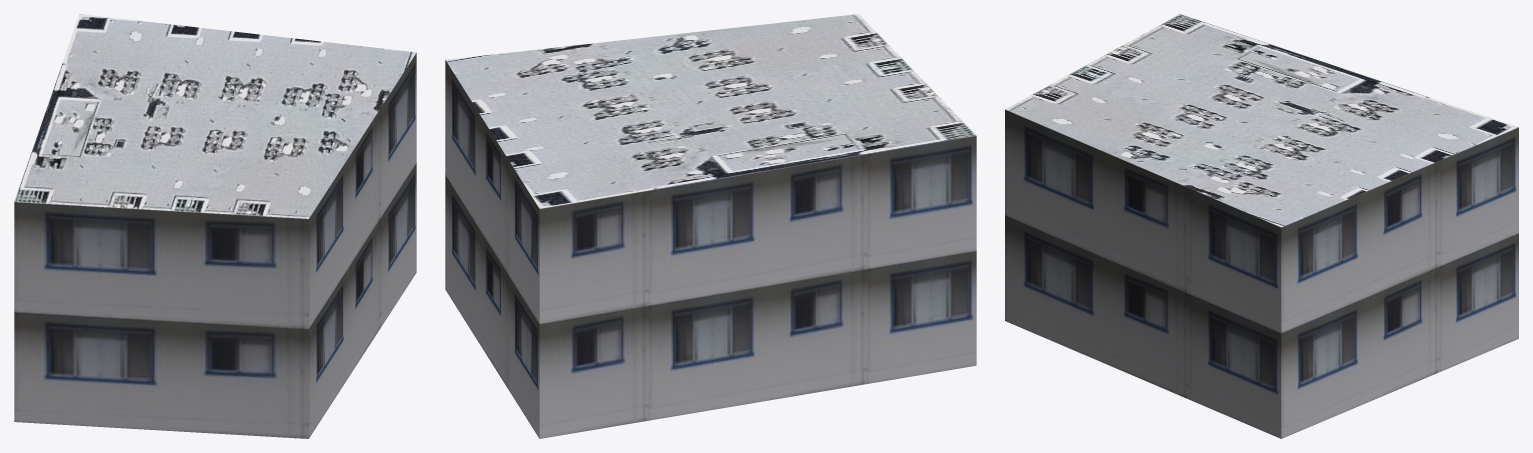
Rendered from ResTex__956.fbx.
3 renders of one model, left to right at view 1: azimuth 30°, elevation 25°; view 2: azimuth 150°, elevation 25°; view 3: azimuth 270°, elevation 25°, orthographic. The views are drawn at different scales.
Visible parts, largest first — view 1: CityEngineMaterial_9_m, CityEngineMaterial_4_m; view 2: CityEngineMaterial_9_m, CityEngineMaterial_4_m; view 3: CityEngineMaterial_9_m, CityEngineMaterial_4_m.
Boxes of the visible parts, bbox=[...] form: CityEngineMaterial_9_m: bbox=[14, 53, 416, 438]; CityEngineMaterial_4_m: bbox=[14, 14, 416, 218]; CityEngineMaterial_9_m: bbox=[445, 60, 976, 438]; CityEngineMaterial_4_m: bbox=[446, 14, 975, 208]; CityEngineMaterial_9_m: bbox=[1005, 109, 1518, 438]; CityEngineMaterial_4_m: bbox=[1005, 14, 1518, 227].
Size of the model in its own units: 12.99 by 6 by 13.21.
Materials: 2 (2 with a texture image).
